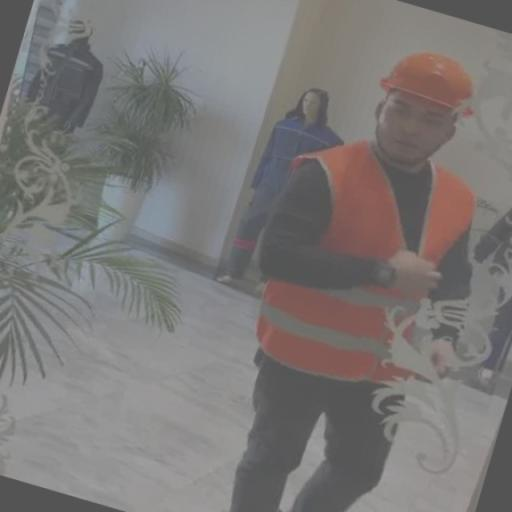Person: (253, 34, 512, 511)
helmet: (376, 52, 478, 114)
none: (376, 236, 452, 294), (423, 325, 473, 384)
vest: (254, 134, 478, 395)
